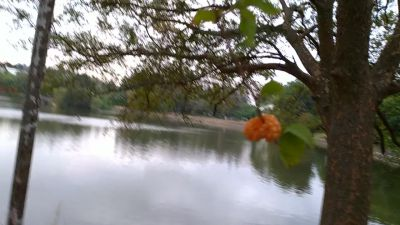eggs: (243, 112, 284, 142)
